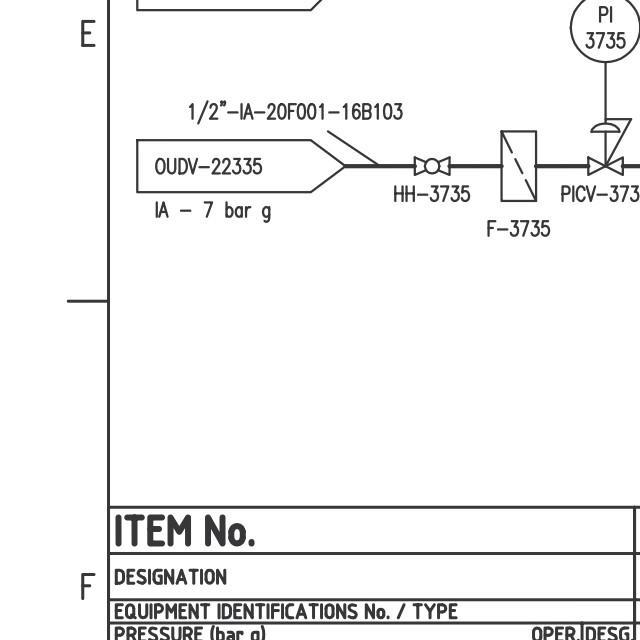BV2: (406, 153, 457, 181)
F2: (493, 120, 546, 208)
PCV: (585, 111, 634, 181)
